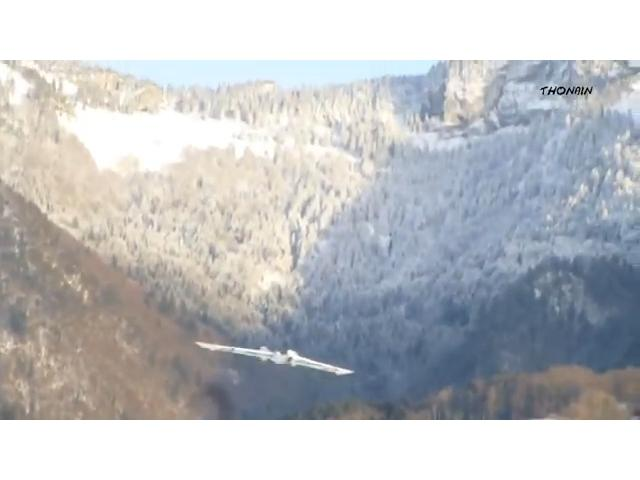Anti-Drone: (196, 341, 352, 374)
